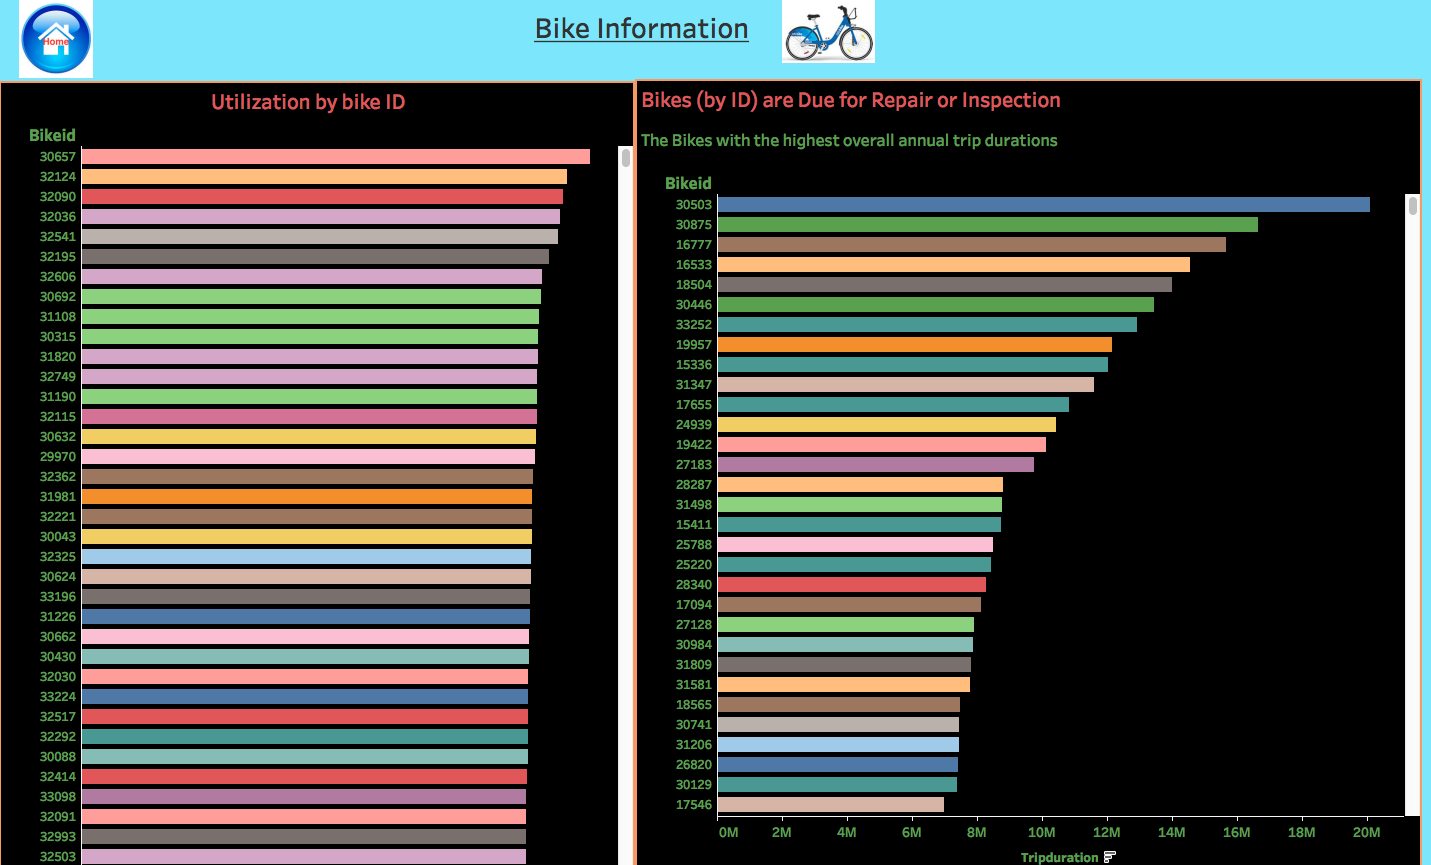

The page's visual inventory and layout, read from the dashboard file:
{"tool":"tableau","page":{"name":"Bike Information ","canvas":[1000,1000],"units":"permille","ordinal":0},"visuals":[{"type":"dashboard-object","box":[3.2,3.2,74,90.9]},{"type":"image","param":"/Users/minaljajoo/Documents/My Tableau Repository/Shapes/custom/actual_bike.jpeg","box":[544.3,3.2,99.3,73.4]},{"type":"title","box":[357.2,5.2,180.6,61.8]}]}

Visuals, with their boxes on the dashboard's canvas, which has no fixed pixel size, in thousandths of its width and height (x1, y1, x2, y2). These are canvas units, not pixel positions in the 1431x865 screenshot, which may show the page scaled, cropped or inside an application window:
dashboard-object: [x1=3, y1=3, x2=77, y2=94]
image: [x1=544, y1=3, x2=644, y2=77]
title: [x1=357, y1=5, x2=538, y2=67]
